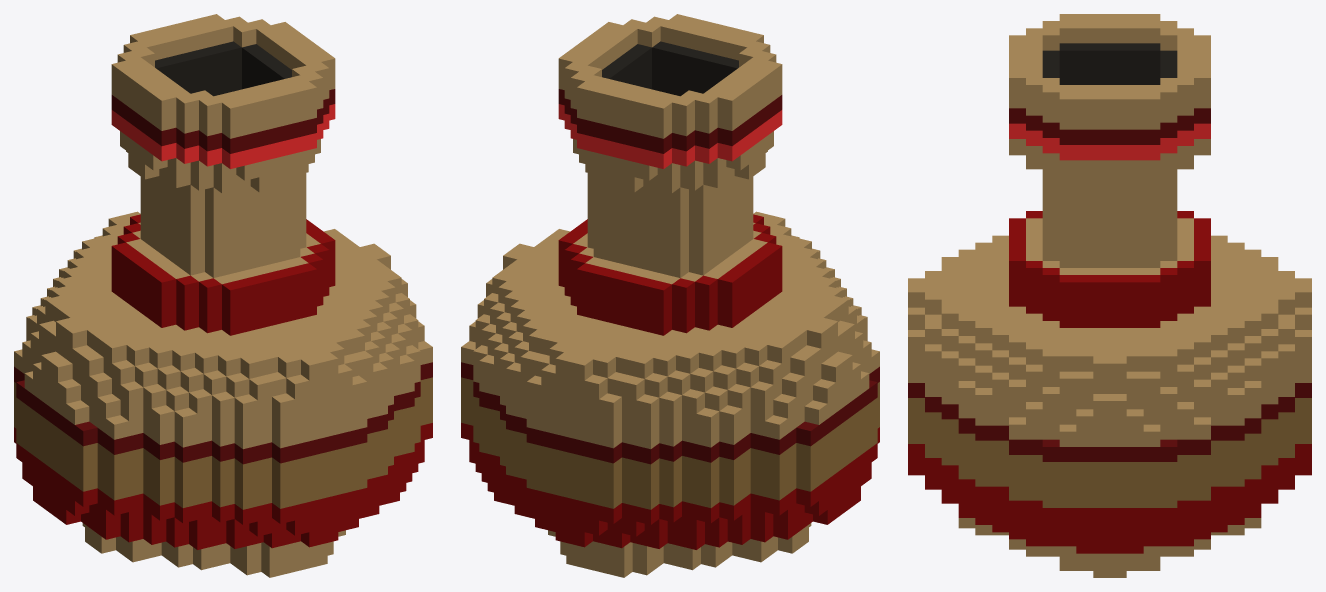
File: Medieval Assets-60-Decoration - Desert - Urn - Variant1.obj
3 renders of one model, left to right at view 1: azimuth 30°, elevation 25°; view 2: azimuth 150°, elevation 25°; view 3: azimuth 270°, elevation 25°, orthographic.
Parts seen in each view (by area): view 1: Decoration - Desert - Urn - Variant1; view 2: Decoration - Desert - Urn - Variant1; view 3: Decoration - Desert - Urn - Variant1.
Boxes of the visible parts, left/top/right/bottom form: Decoration - Desert - Urn - Variant1: left=14, top=14, right=432, bottom=577; Decoration - Desert - Urn - Variant1: left=461, top=14, right=879, bottom=577; Decoration - Desert - Urn - Variant1: left=908, top=14, right=1311, bottom=577.
Bounding box in the file's own units: 2.4 × 3 × 2.4.
1 material, 1 textured.
